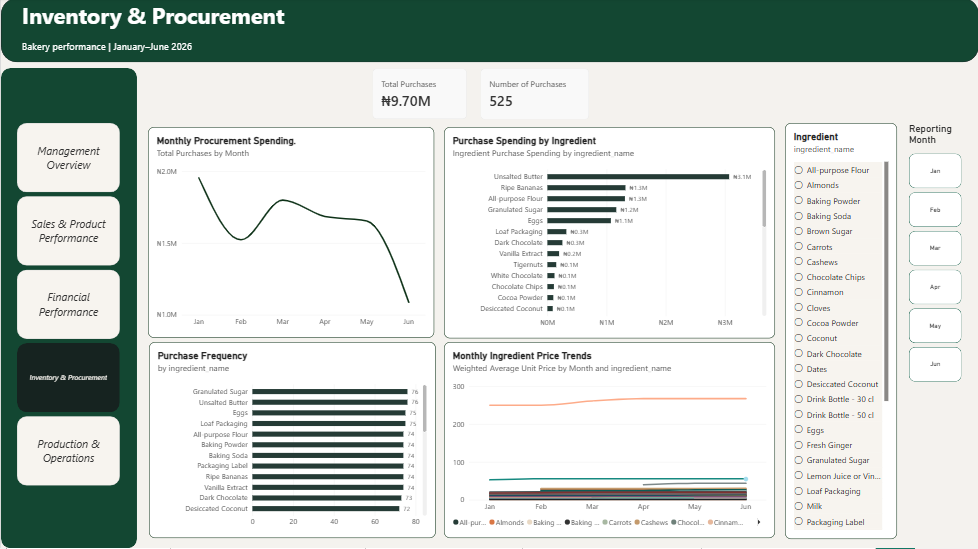

The page's visual inventory and layout, read from the dashboard file:
{"tool":"powerbi","page":{"name":"Inventory & Procurement","canvas":[1920,1080],"ordinal":3},"visuals":[{"type":"advancedSlicerVisual","title":"Reporting Month","fields":{"Values":["DimDate.Month"]},"box":[1782.5,245,103.3,510],"z":0},{"type":"cardVisual","fields":{"Data":["Measure.Number of Purchases"]},"box":[937.5,133.5,223.3,110],"z":1000},{"type":"lineChart","title":"Monthly Procurement Spending.","fields":{"Category":["DimDate.Month"],"Y":["Measure.Total Purchases"]},"box":[289.4,252.7,562,414],"z":2000},{"type":"cardVisual","fields":{"Data":["Measure.Total Purchases"]},"box":[724.6,133.5,195.3,109.3],"z":3000},{"type":"clusteredBarChart","title":"Purchase Spending by Ingredient","fields":{"Category":["ingredients.ingredient_name"],"Y":["Measure.Ingredient Purchase Spending"]},"box":[870,252.5,650,415],"z":4000},{"type":"clusteredBarChart","fields":{"Category":["ingredients.ingredient_name"],"Y":["Measure.Purchase Frequency"]},"box":[290,675,562.5,385],"z":5000},{"type":"lineChart","title":"Monthly Ingredient Price Trends","fields":{"Category":["DimDate.Month"],"Series":["ingredients.ingredient_name"],"Y":["Measure.Weighted Average Unit Price"]},"box":[870,675,650,385],"z":6000},{"type":"listSlicer","title":"Ingredient","fields":{"Values":["ingredients.ingredient_name"]},"box":[1540,245,220,816.7],"z":7000},{"type":"shape","box":[0,0,1920,126],"z":8000},{"type":"textbox","box":[40.9,6.8,625,120],"z":9000},{"type":"shape","box":[0,138,267.1,942.9],"z":10000},{"type":"pageNavigator","box":[32,246,202.5,712.5],"z":11000}]}

Visuals, with their boxes in screenshot pixels (x1, y1, x2, y2), scaled from the page's 1920x1080 canvas onto the 978x549 screenshot:
"Reporting Month" advancedSlicerVisual: Rect(908, 125, 961, 384)
cardVisual - Measure.Number of Purchases: Rect(478, 68, 591, 124)
"Monthly Procurement Spending." lineChart: Rect(147, 128, 434, 339)
cardVisual - Measure.Total Purchases: Rect(369, 68, 469, 123)
"Purchase Spending by Ingredient" clusteredBarChart: Rect(443, 128, 774, 339)
clusteredBarChart - ingredients.ingredient_name x Measure.Purchase Frequency: Rect(148, 343, 434, 539)
"Monthly Ingredient Price Trends" lineChart: Rect(443, 343, 774, 539)
"Ingredient" listSlicer: Rect(784, 125, 896, 540)
shape: Rect(0, 0, 977, 64)
textbox: Rect(21, 3, 339, 64)
shape: Rect(0, 70, 136, 548)
pageNavigator: Rect(16, 125, 119, 487)
